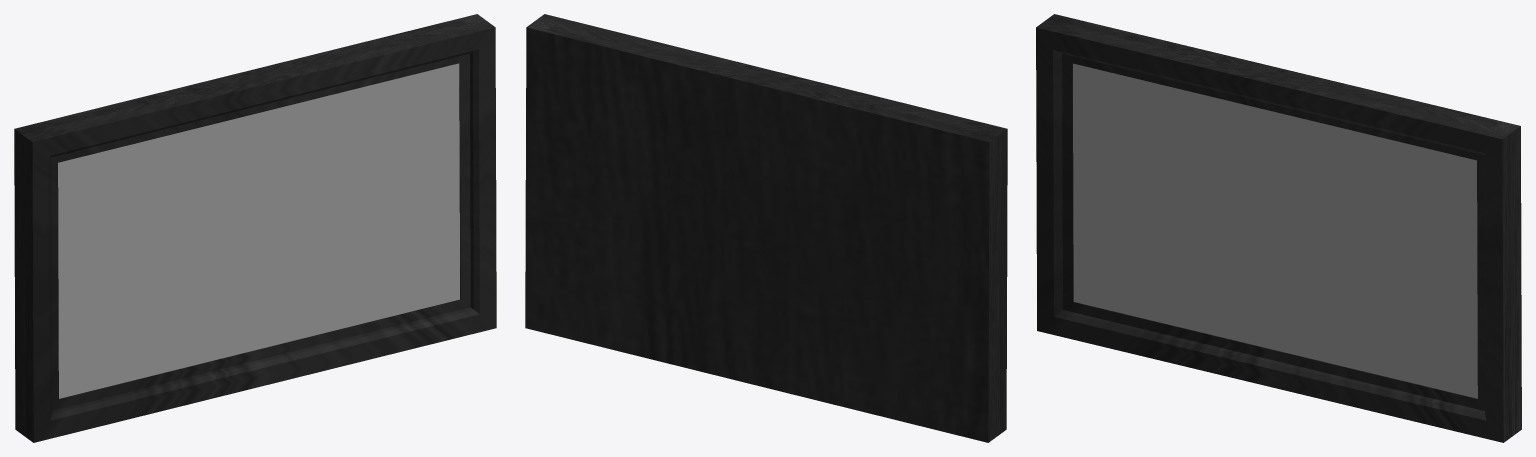
File: Mirror.fbx
The picture shows the model from 3 angles, left to right: view 1: azimuth 30°, elevation 25°; view 2: azimuth 150°, elevation 25°; view 3: azimuth 330°, elevation 25°; orthographic projection.
Parts seen in each view (by area): view 1: mirror; view 2: mirror; view 3: mirror.
Boxes of the visible parts, <box> form: mirror: <box>14,14,496,442</box>; mirror: <box>525,14,1007,442</box>; mirror: <box>1036,14,1521,442</box>.
Size of the model in its own units: 7.25 by 4.52 by 0.4928.
Materials: 2 (1 with a texture image).
